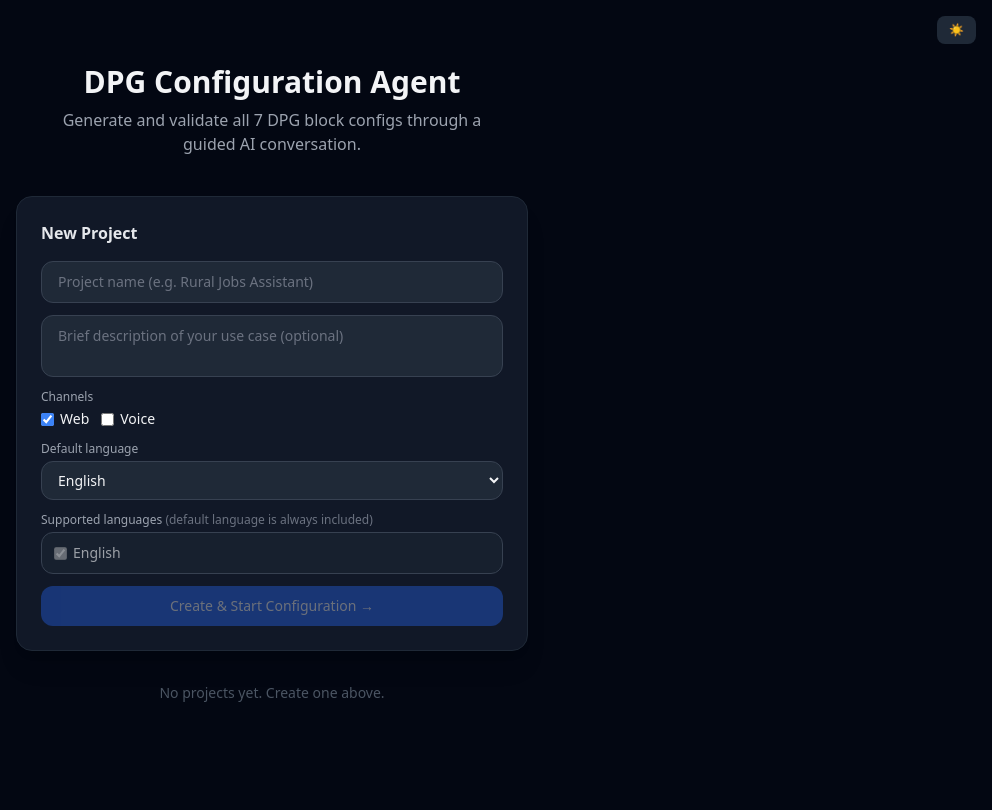
Test: ProjectList › shows error message when project creation fails
This screenshot has width=992, height=810.
In the field with placeholder "Project name (e.g. Rural Jobs Assistant)": (272, 282) top-left (41, 261), bottom-right (503, 303), type "Duplicate"
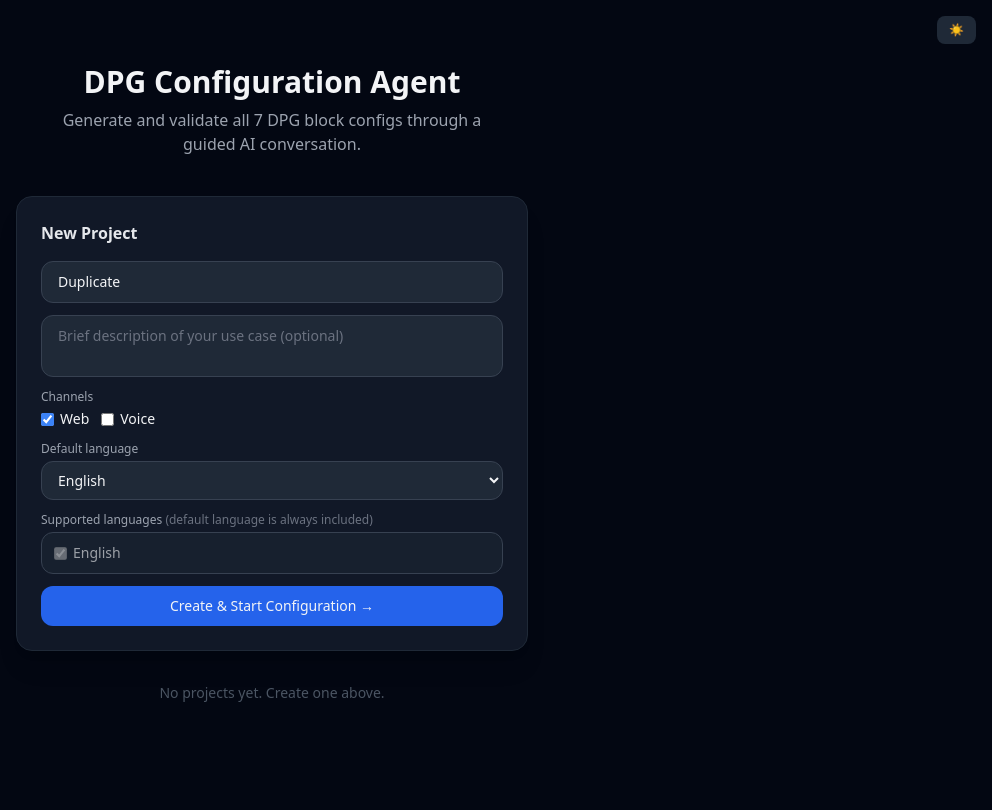
Click the button "Create & Start Configuration →": (272, 606) top-left (41, 586), bottom-right (503, 626)
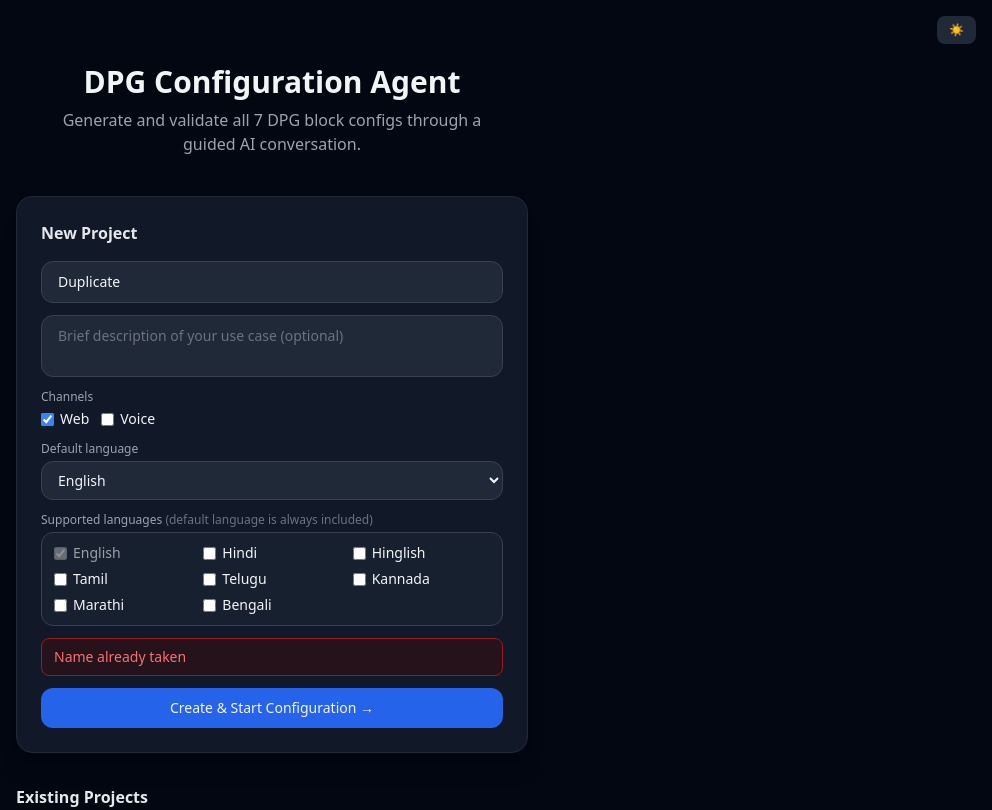
Expected: the text "Name already taken" is shown, top-left (41, 638), bottom-right (503, 676)
